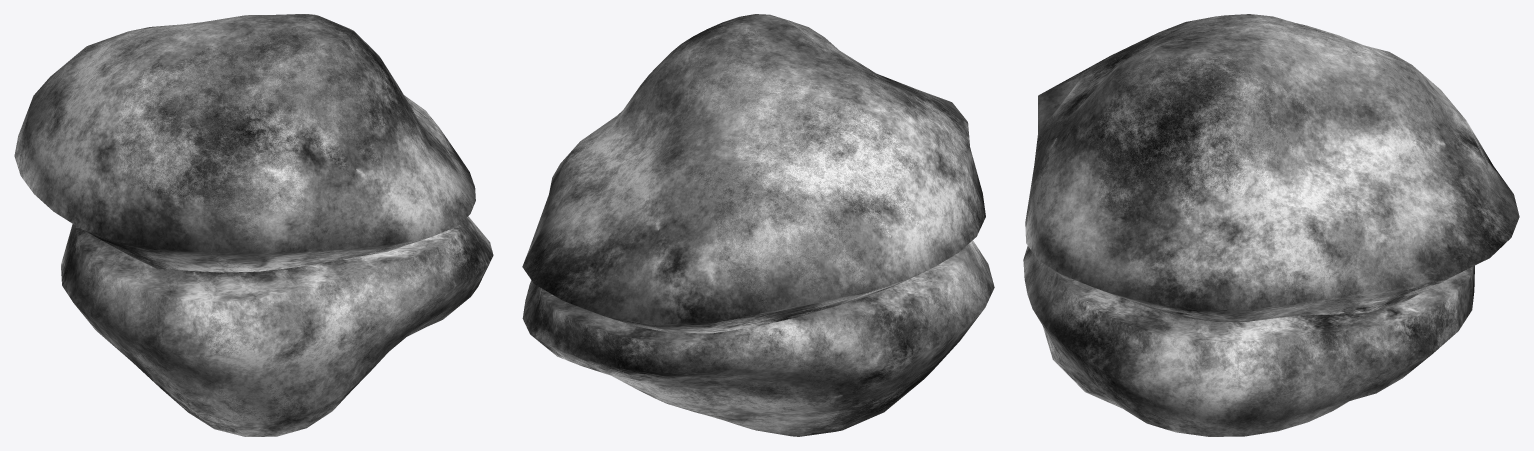
File: Asteroid01a.fbx
3 views of the same model, side by side, from view 1: azimuth 30°, elevation 25°; view 2: azimuth 150°, elevation 25°; view 3: azimuth 270°, elevation 25° (orthographic). The views are drawn at different scales.
Parts seen in each view (by area): view 1: Asteroid01a; view 2: Asteroid01a; view 3: Asteroid01a.
Part boxes in pixels (bbox=[...]): Asteroid01a: bbox=[14, 14, 493, 436]; Asteroid01a: bbox=[522, 14, 994, 436]; Asteroid01a: bbox=[1023, 14, 1519, 436].
Bounding box in the file's own units: 1107 × 999 × 1142.
